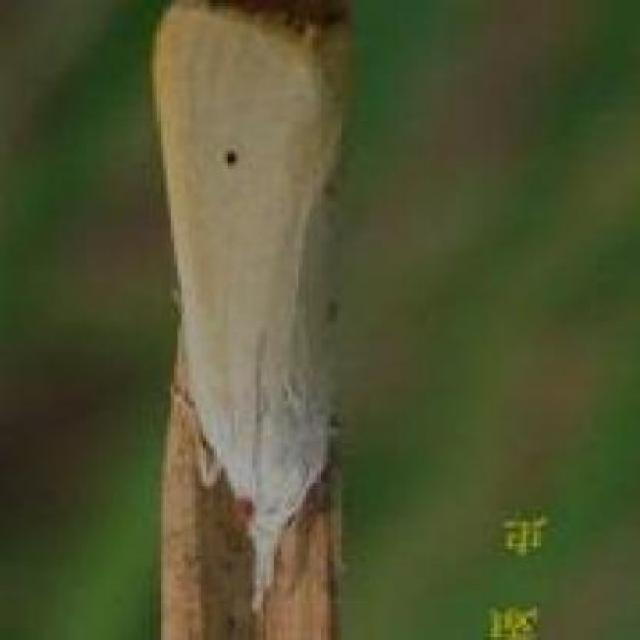stem-borer: (144, 0, 349, 618)
